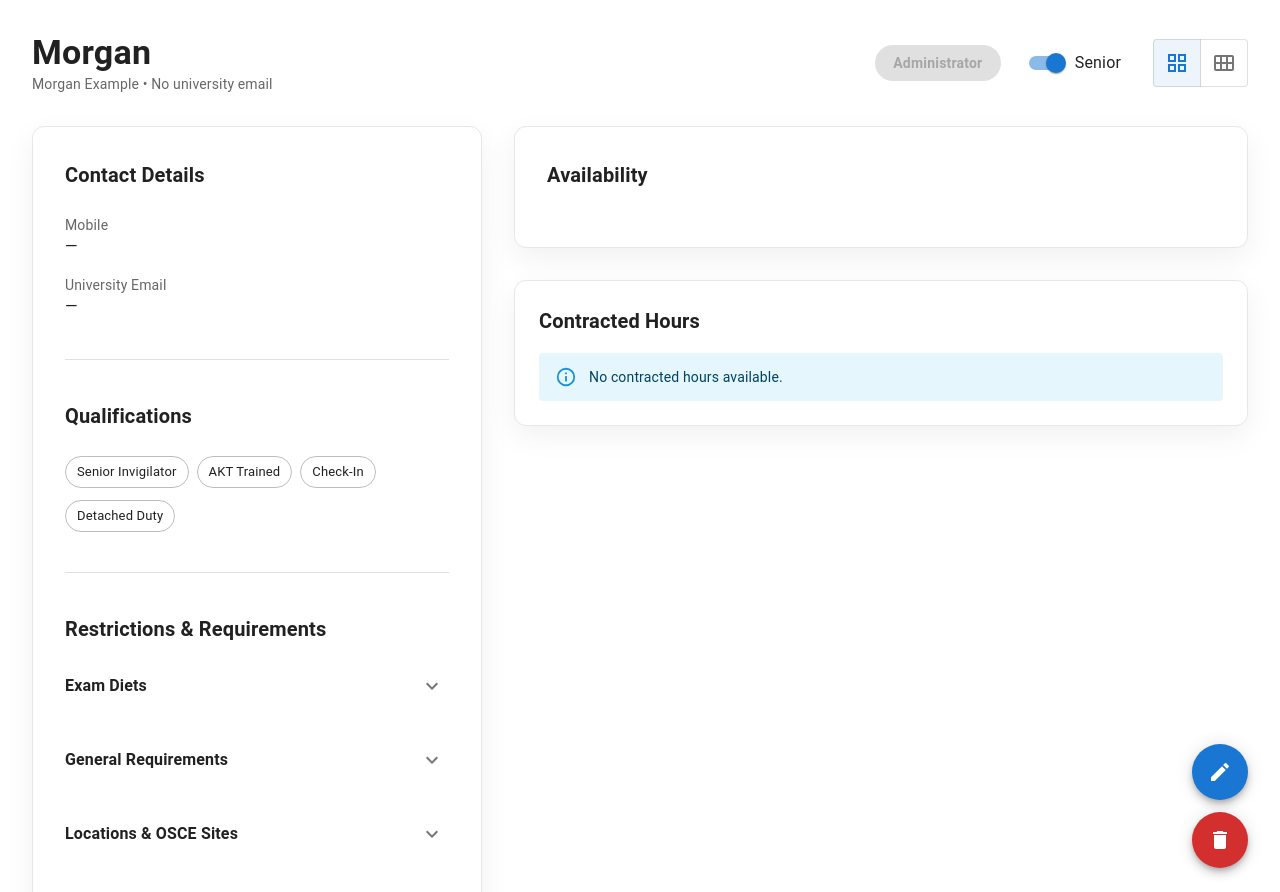
Scenario: AdminInvigilatorProfile › opens senior demote dialog when senior admin toggles off
Click the switch labelled "Senior".
click(1075, 63)  # box 1029,53 -> 1121,73
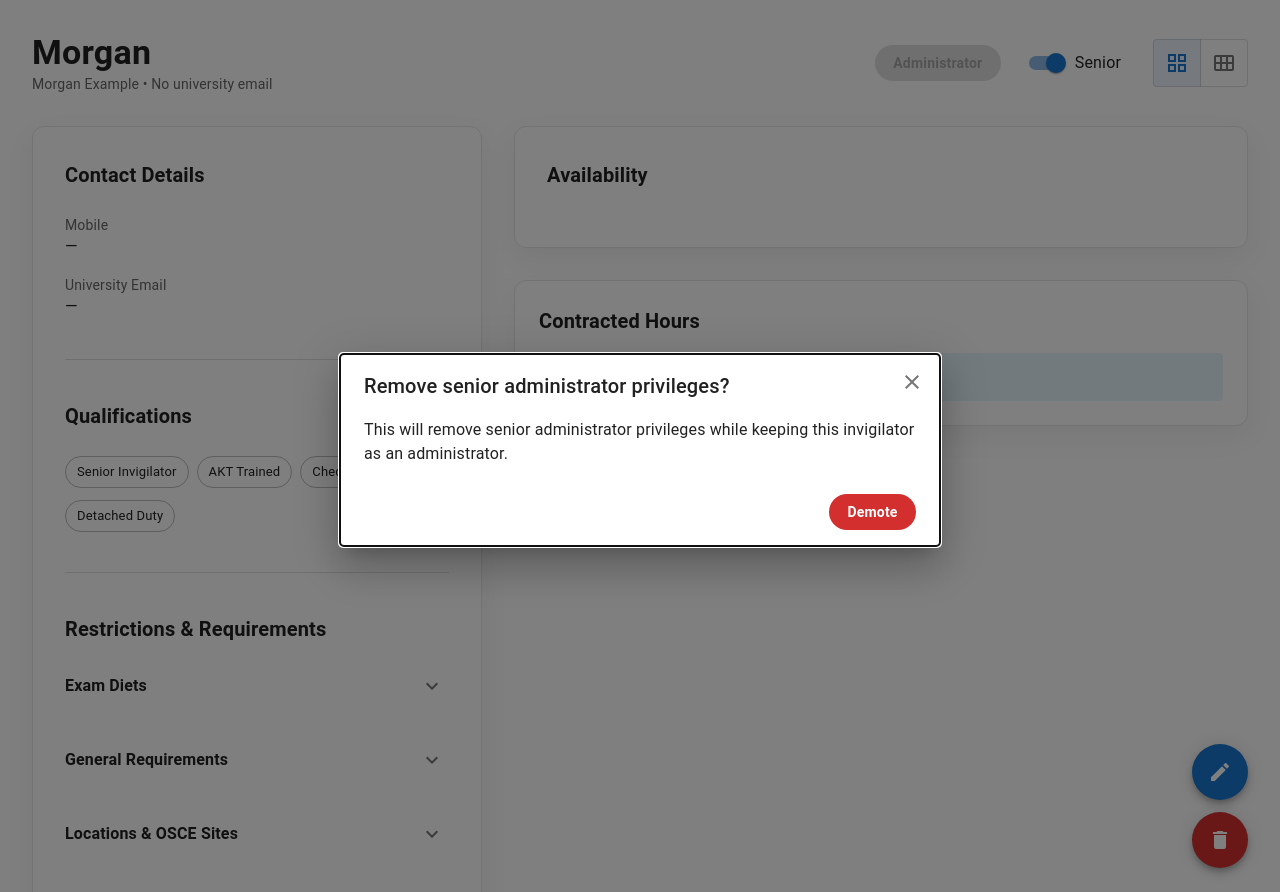
Result: the heading "Remove senior administrator privileges?" is shown at 340,354 -> 940,418
